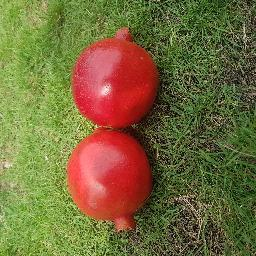Good_pomegranate: (70, 28, 156, 233)
